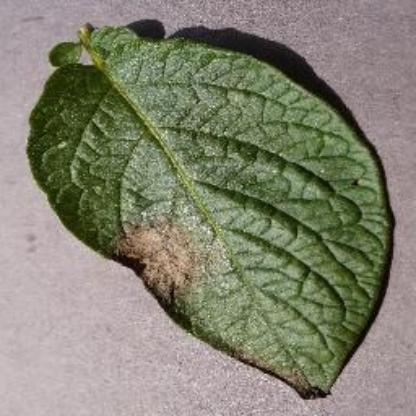Late-Blight: (23, 13, 394, 403)
